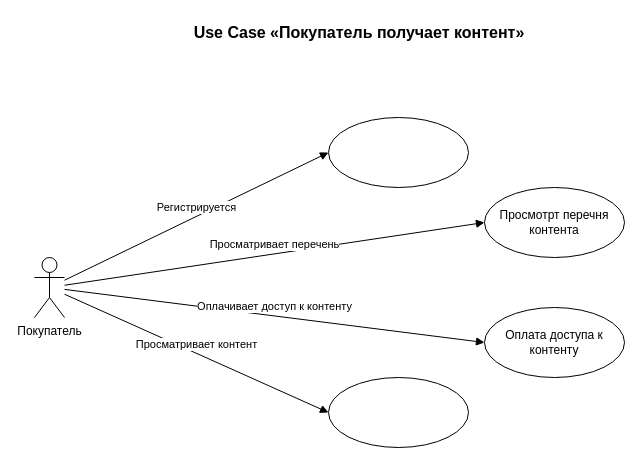
This 642x465 diagram has some shape labels left out. Each missing label, with the box of its shape:
Просмотр контента: (328, 376, 468, 448)
Регистрация пользователя: (328, 116, 468, 188)
